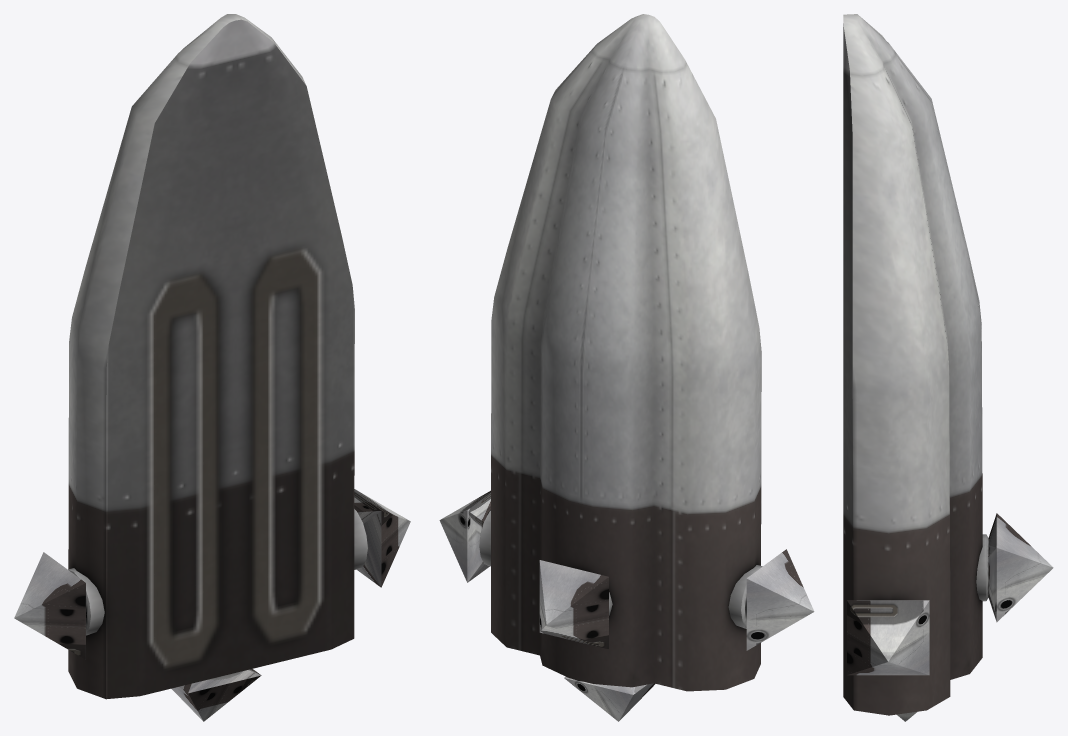
File: Apollo_APS.FBX
3 views of the same model, side by side, from view 1: azimuth 30°, elevation 25°; view 2: azimuth 150°, elevation 25°; view 3: azimuth 270°, elevation 25° (orthographic). The views are drawn at different scales.
Visible parts, largest first — view 1: Apollo_APS, RCSthruster001, RCSthruster, thrustTransform; view 2: Apollo_APS, RCSthruster003, RCSthruster001, RCSthruster, thrustTransform; view 3: Apollo_APS, RCSthruster, RCSthruster003.
Part boxes in pixels (x1=…): Apollo_APS: x1=68, y1=14, x2=367, y2=699; RCSthruster001: x1=14, y1=552, x2=85, y2=659; RCSthruster: x1=354, y1=489, x2=410, y2=587; thrustTransform: x1=171, y1=669, x2=261, y2=721; Apollo_APS: x1=479, y1=14, x2=762, y2=691; RCSthruster003: x1=539, y1=560, x2=608, y2=649; RCSthruster001: x1=746, y1=549, x2=814, y2=650; RCSthruster: x1=439, y1=490, x2=490, y2=582; thrustTransform: x1=564, y1=677, x2=655, y2=721; Apollo_APS: x1=843, y1=14, x2=988, y2=715; RCSthruster: x1=847, y1=600, x2=929, y2=675; RCSthruster003: x1=988, y1=513, x2=1053, y2=622.
Size of what is drawn, in the model's own units: 52.34 by 91.37 by 24.72.
1 material, 1 textured.
